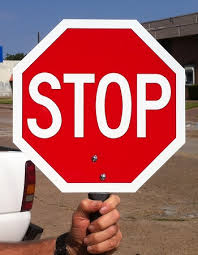SS: (13, 21, 185, 194)
